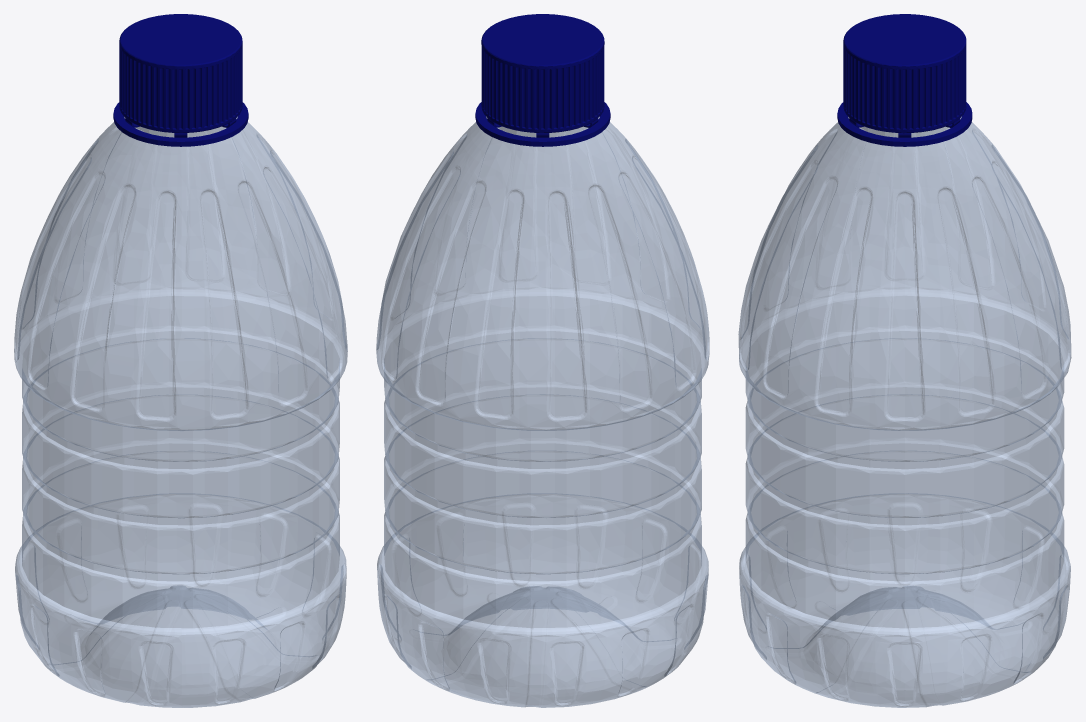
Rendered from bottle.gltf.
3 views of the same model, side by side, from view 1: azimuth 30°, elevation 25°; view 2: azimuth 150°, elevation 25°; view 3: azimuth 270°, elevation 25° (orthographic).
Visible parts, largest first — view 1: Bottle; view 2: Bottle; view 3: Bottle.
Part boxes in pixels (x1=…): Bottle: x1=14, y1=14, x2=347, y2=707; Bottle: x1=376, y1=14, x2=709, y2=707; Bottle: x1=738, y1=14, x2=1071, y2=707.
Size of the model in its own units: 1.38 by 2.8 by 1.38.
